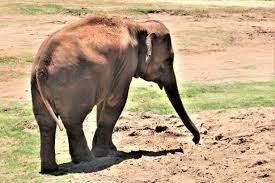elephant: (30, 15, 199, 172)
